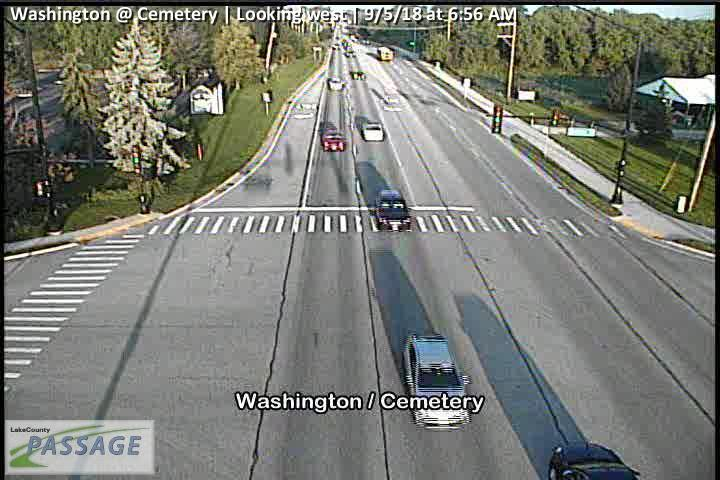SUV: (400, 333, 473, 431), (374, 187, 412, 231)
Sedan: (548, 441, 643, 480), (321, 129, 344, 153), (362, 118, 383, 142), (377, 46, 394, 61), (327, 76, 344, 91), (351, 69, 367, 82), (345, 49, 357, 57)
